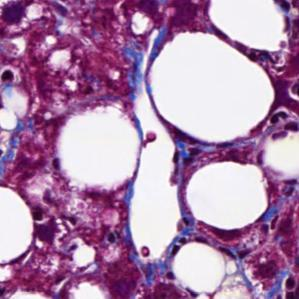inflammation: (32, 187, 80, 247), (263, 106, 299, 139), (0, 0, 37, 30), (281, 274, 299, 299)
